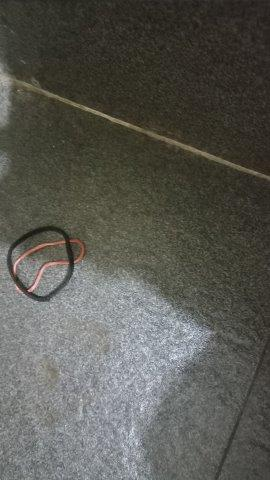karet: (7, 226, 85, 302)
